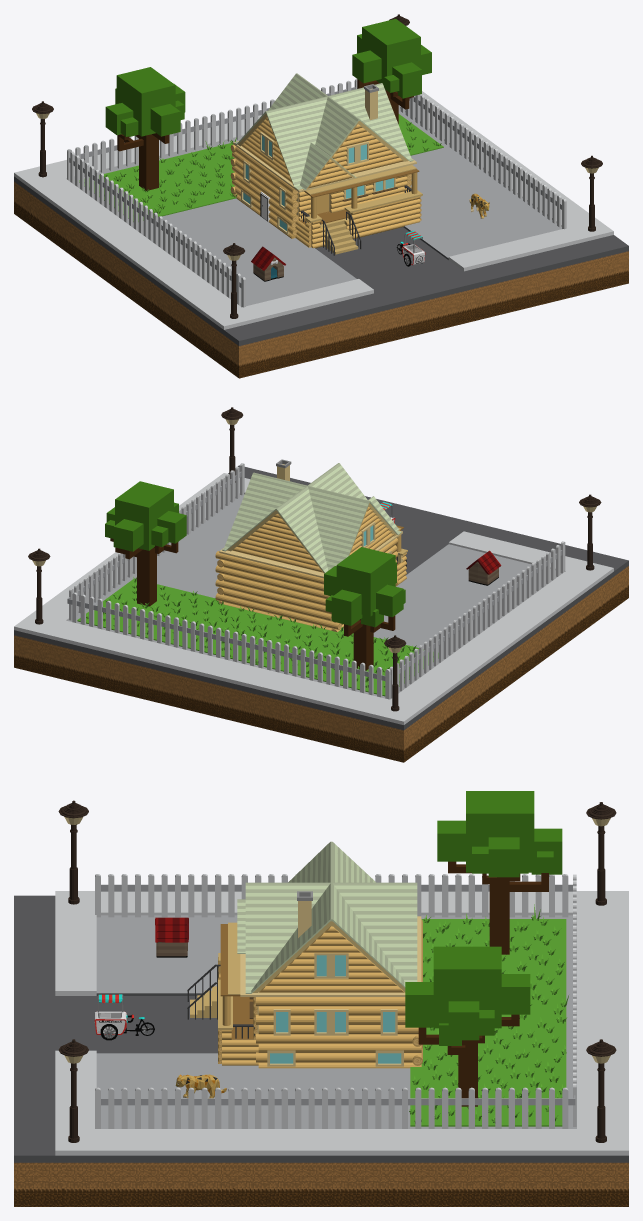
3 views of the same model, one above another, from view 1: azimuth 30°, elevation 25°; view 2: azimuth 150°, elevation 25°; view 3: azimuth 270°, elevation 25° (orthographic). The views are drawn at different scales.
Parts seen in each view (by area): view 1: Cube.004, Cube.1516, OBJRANDOM_DOGHOUSE, VEHICLES_SNOWBAL_BIKE; view 2: Cube.004, Cube.1516, OBJRANDOM_DOGHOUSE; view 3: Cube.004, Cube.1516, VEHICLES_SNOWBAL_BIKE, OBJRANDOM_DOGHOUSE, ANIMAL_JAGUAR.
Boxes of the visible parts, <box> form: Cube.004: <box>14,14,628,378</box>; Cube.1516: <box>230,73,422,255</box>; OBJRANDOM_DOGHOUSE: <box>251,246,285,281</box>; VEHICLES_SNOWBAL_BIKE: <box>396,230,425,266</box>; Cube.004: <box>14,407,628,762</box>; Cube.1516: <box>215,459,407,632</box>; OBJRANDOM_DOGHOUSE: <box>466,550,501,585</box>; Cube.004: <box>14,791,628,1206</box>; Cube.1516: <box>187,841,422,1068</box>; VEHICLES_SNOWBAL_BIKE: <box>94,994,154,1040</box>; OBJRANDOM_DOGHOUSE: <box>155,917,188,957</box>; ANIMAL_JAGUAR: <box>175,1074,226,1098</box>.
Size of the model in its own units: 4000 by 1600 by 4000.
46 materials, 4 textured.
